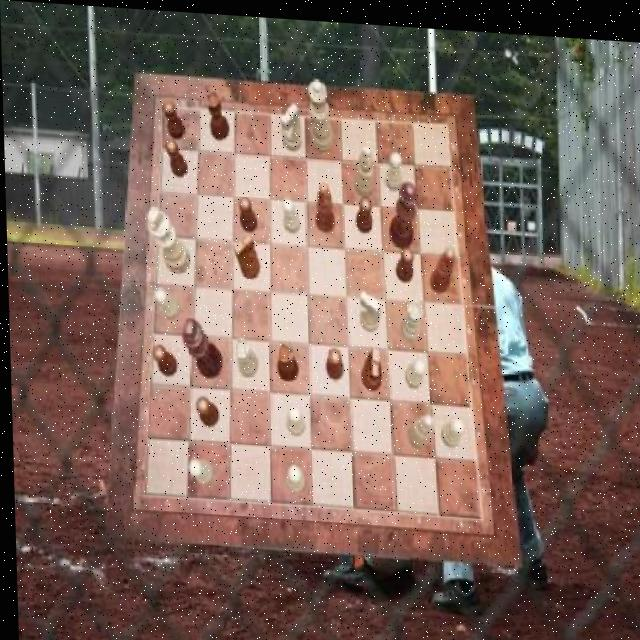bishop: (427, 241, 454, 288), (313, 179, 334, 229)
black-bishop: (180, 317, 221, 377)
black-king: (231, 230, 258, 277), (359, 343, 381, 387)
black-knight: (161, 99, 185, 139), (164, 136, 187, 176), (150, 343, 175, 376), (192, 393, 216, 425), (394, 242, 413, 279), (237, 194, 256, 231), (353, 192, 371, 229), (322, 344, 341, 378)
black-pawn: (387, 177, 419, 246)
black-queen: (205, 88, 229, 138), (273, 340, 296, 380)
black-rook: (352, 140, 373, 193), (405, 408, 431, 444)
white-bishop: (145, 204, 189, 272)
white-king: (279, 99, 300, 148), (357, 286, 381, 327)
white-knight: (153, 286, 178, 320), (438, 410, 462, 442), (383, 146, 401, 187), (280, 193, 299, 229), (186, 457, 211, 484), (402, 351, 422, 383), (284, 402, 302, 434), (284, 462, 302, 490)
white-pawn: (307, 76, 333, 150)
white-queen: (399, 294, 423, 338), (231, 335, 254, 375)
